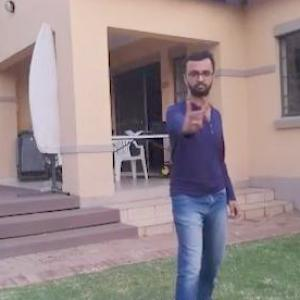takeoff-hand: (175, 90, 212, 137)
